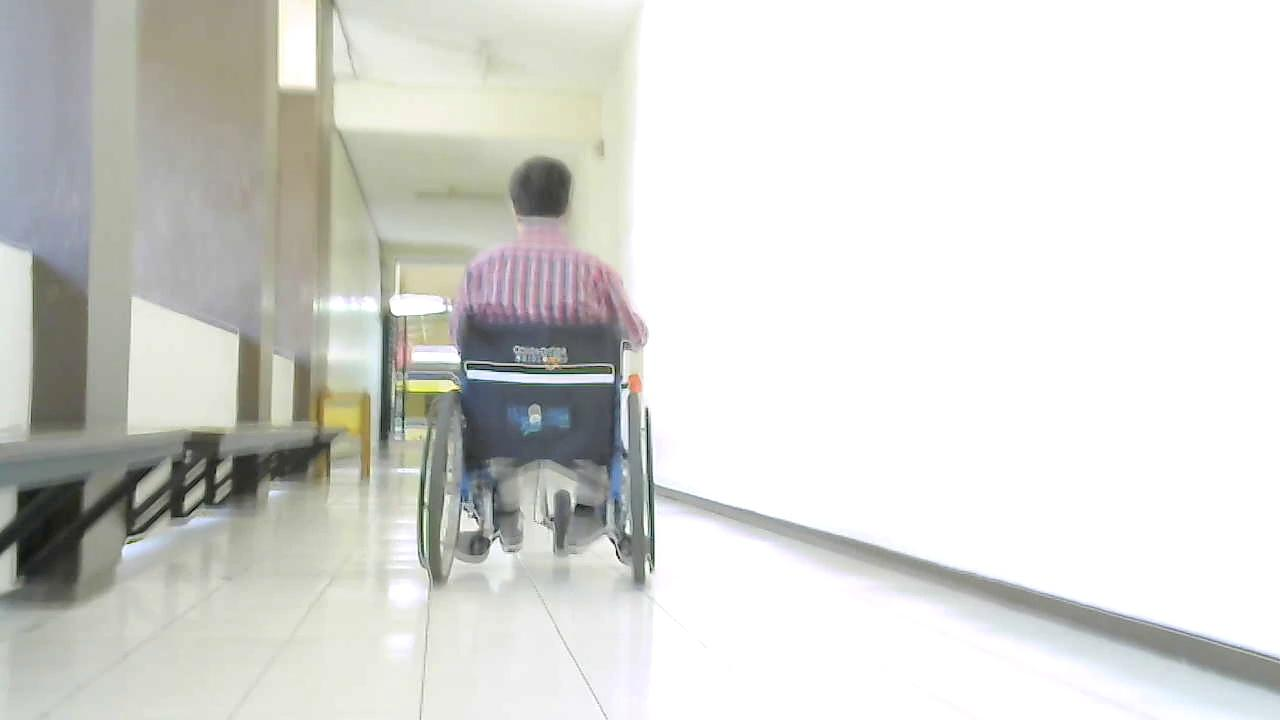person: (454, 155, 648, 377)
wheelchair: (393, 298, 686, 604)
